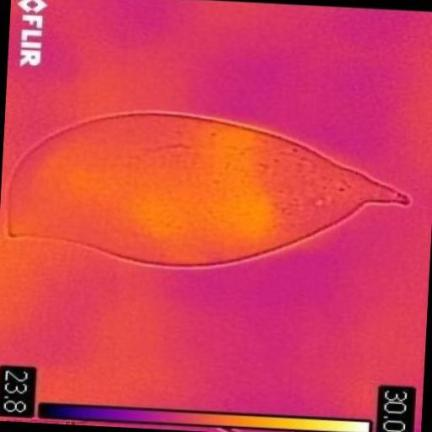mango: (8, 110, 410, 267)
